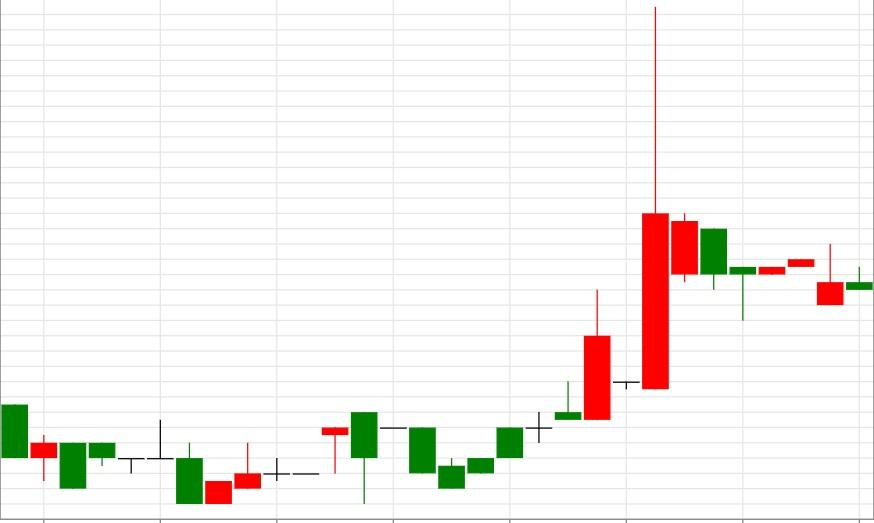bearish_engulfing_fall: (205, 412, 378, 504)
three_white_soldiers_rise: (350, 412, 524, 505)
